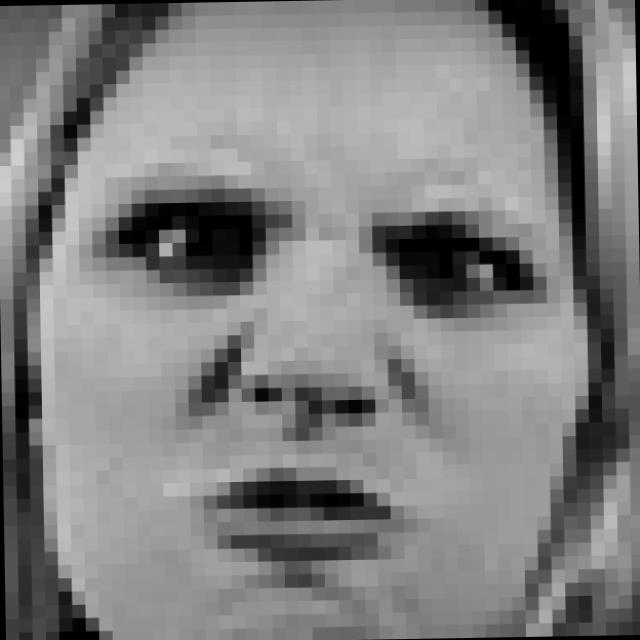angry: (97, 164, 544, 584)
